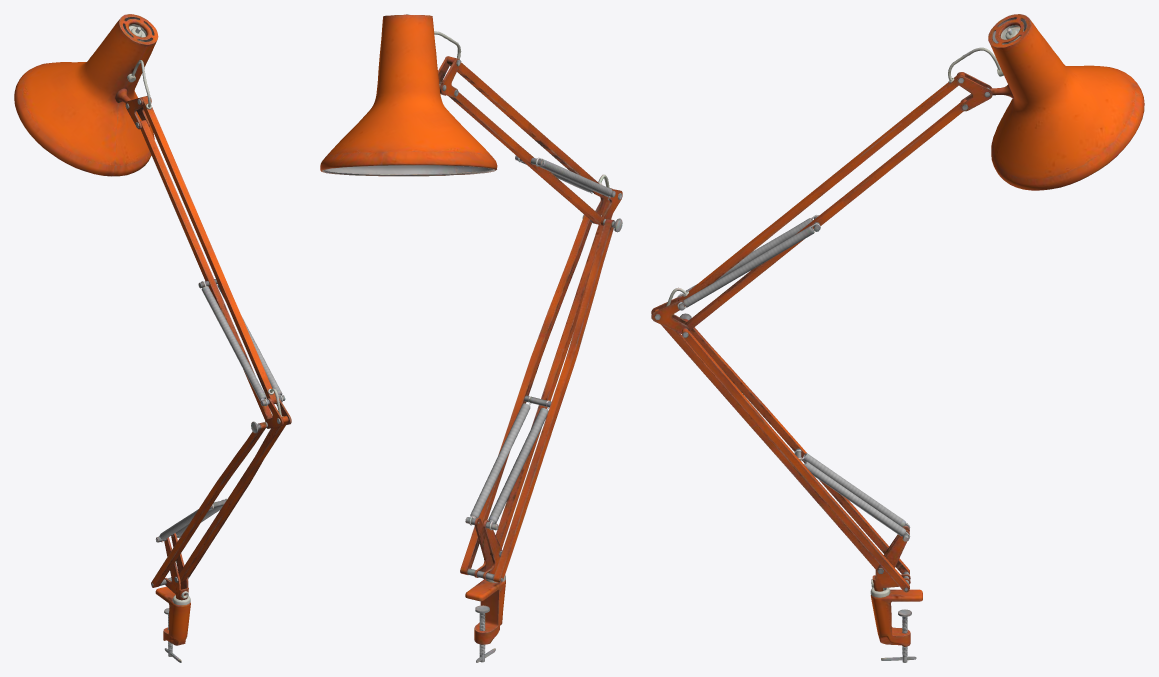
File: desk_lamp_arm_01.glb
The picture shows the model from 3 angles, left to right: view 1: azimuth 30°, elevation 25°; view 2: azimuth 150°, elevation 25°; view 3: azimuth 270°, elevation 25°; orthographic projection. The views are drawn at different scales.
Parts seen in each view (by area): view 1: desk_lamp_arm_01; view 2: desk_lamp_arm_01; view 3: desk_lamp_arm_01.
Part boxes in pixels (x1,y1,x2,y2): desk_lamp_arm_01: (14,14,291,662); desk_lamp_arm_01: (320,14,622,662); desk_lamp_arm_01: (651,14,1144,662).
Bounding box in the file's own units: 0.2019 × 0.8926 × 0.614.
2 materials, 2 textured.
